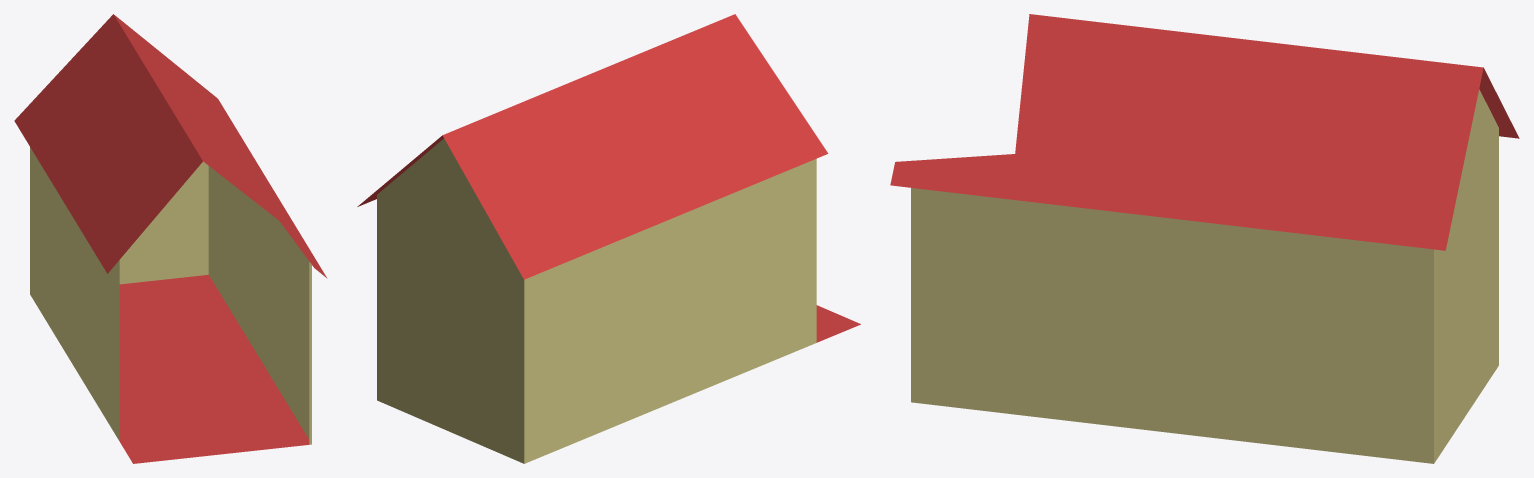
3 views of the same model, side by side, from view 1: azimuth 30°, elevation 25°; view 2: azimuth 150°, elevation 25°; view 3: azimuth 270°, elevation 25° (orthographic). The views are drawn at different scales.
Size of the model in its own units: 11.89 by 18.73 by 11.41.
